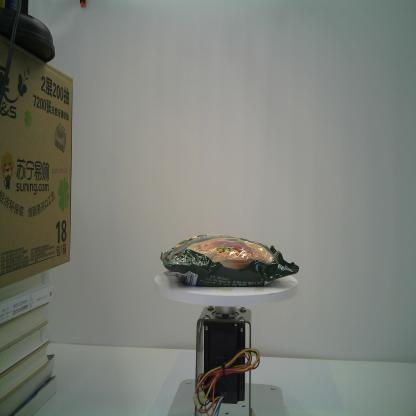Instant Noodles: (158, 232, 301, 288)
